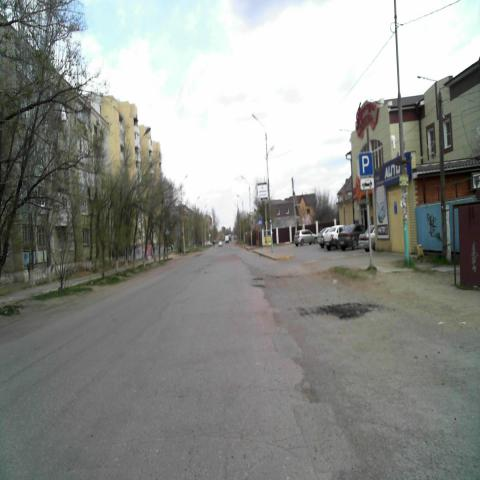5_19_1: (257, 217, 263, 227)
6_4: (359, 152, 373, 176)
8_4_3: (360, 176, 374, 190)
